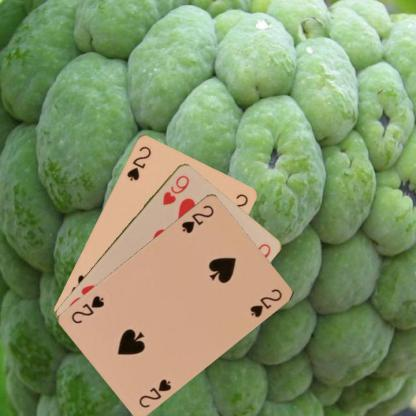2s: (136, 376, 173, 409), (178, 202, 216, 234), (124, 143, 152, 182)
9h: (160, 172, 190, 206)
